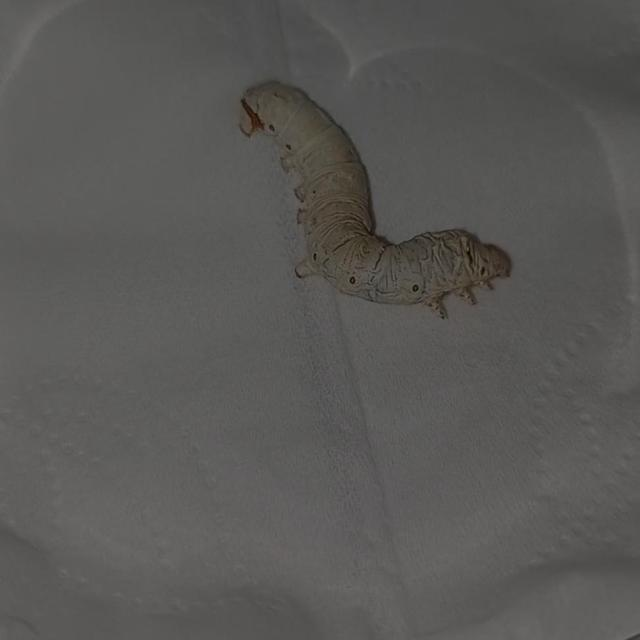Healthy: (220, 57, 534, 338)
